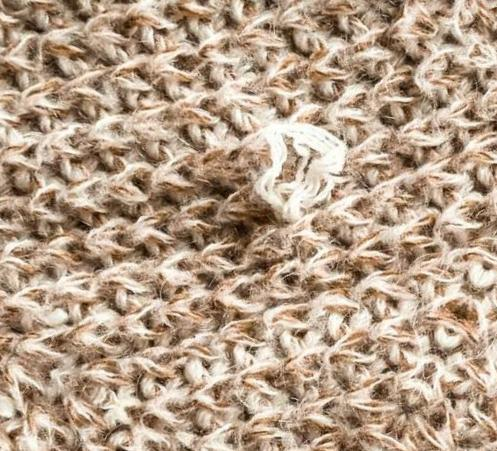snag: (241, 104, 355, 229)
